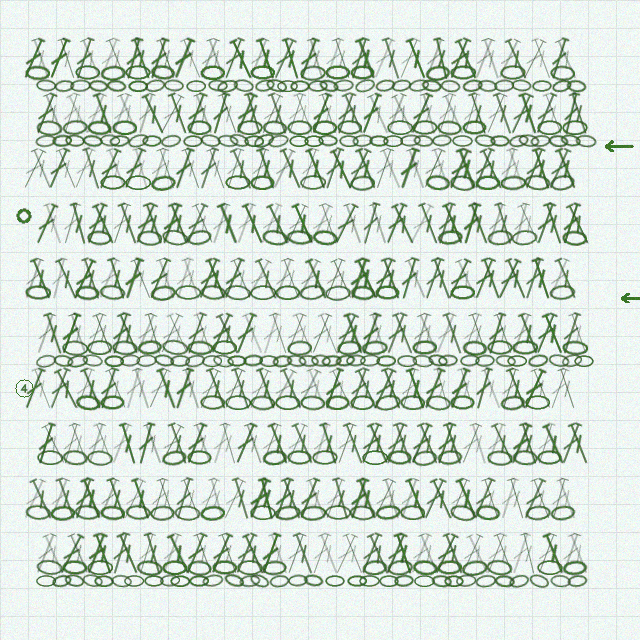chain: (449, 503, 477, 523), (161, 228, 189, 247), (261, 228, 289, 247), (161, 338, 189, 357), (374, 393, 402, 412), (549, 173, 576, 192), (186, 228, 213, 247), (449, 174, 476, 192), (161, 449, 188, 467), (274, 504, 301, 522), (136, 559, 163, 577), (461, 559, 488, 577), (486, 558, 513, 576), (425, 64, 451, 82), (150, 174, 176, 192), (150, 284, 176, 302), (425, 394, 451, 412), (500, 394, 526, 412), (412, 449, 438, 467), (550, 504, 576, 522), (524, 174, 551, 191), (286, 229, 313, 246), (511, 229, 538, 246), (99, 284, 126, 301), (224, 284, 251, 301), (299, 284, 326, 301), (549, 284, 576, 301), (74, 504, 101, 521), (36, 559, 63, 576), (252, 131, 276, 150), (150, 64, 176, 81), (62, 119, 88, 136), (425, 174, 451, 191), (312, 229, 338, 246), (437, 229, 463, 246), (487, 229, 513, 246), (200, 284, 226, 301), (137, 339, 163, 356), (75, 394, 101, 411), (62, 449, 88, 466), (262, 449, 288, 466), (437, 449, 463, 466), (512, 449, 538, 466), (25, 504, 51, 521), (125, 504, 151, 521), (375, 504, 401, 521), (475, 504, 501, 521), (362, 559, 388, 576), (387, 559, 413, 576), (412, 559, 438, 576), (36, 120, 63, 136), (361, 340, 388, 356), (174, 505, 201, 521), (349, 505, 376, 521), (100, 65, 126, 81), (300, 65, 326, 81), (262, 120, 288, 136), (500, 175, 526, 191), (325, 285, 351, 301), (350, 285, 376, 301), (62, 340, 88, 356), (112, 340, 138, 356), (187, 340, 213, 356), (462, 340, 488, 356), (562, 340, 588, 356), (87, 450, 113, 466), (487, 450, 513, 466), (300, 505, 326, 521), (525, 505, 551, 521), (562, 560, 588, 576), (248, 572, 271, 590), (25, 65, 50, 81), (550, 65, 575, 81), (87, 120, 112, 136), (437, 120, 462, 136), (350, 175, 375, 191), (87, 230, 112, 246), (137, 230, 162, 246), (562, 230, 587, 246), (75, 285, 100, 301), (287, 340, 312, 356), (337, 340, 362, 356), (250, 395, 275, 411), (300, 395, 325, 411), (50, 505, 75, 521), (100, 505, 125, 521), (150, 505, 175, 521), (200, 505, 225, 521), (187, 560, 212, 576), (262, 560, 287, 576), (528, 572, 550, 590), (265, 77, 288, 94), (127, 132, 150, 149), (125, 65, 151, 80), (450, 65, 476, 80), (500, 65, 526, 80), (237, 120, 263, 135), (387, 120, 413, 135), (412, 120, 438, 135), (562, 120, 588, 135), (100, 175, 126, 190), (125, 175, 151, 190), (225, 175, 251, 190), (300, 175, 326, 190), (25, 285, 51, 300), (175, 285, 201, 300), (250, 285, 276, 300), (487, 340, 513, 355), (512, 340, 538, 355), (225, 395, 251, 410), (37, 450, 63, 465), (312, 450, 338, 465), (362, 450, 388, 465), (250, 505, 276, 520), (325, 505, 351, 520), (87, 560, 113, 575), (237, 560, 263, 575), (537, 560, 563, 575), (75, 65, 100, 80), (200, 65, 225, 80), (250, 65, 275, 80), (325, 65, 350, 80), (350, 65, 375, 80), (112, 120, 137, 135), (187, 120, 212, 135), (287, 120, 312, 135), (312, 120, 337, 135), (337, 120, 362, 135), (462, 120, 487, 135), (537, 120, 562, 135), (250, 175, 275, 190), (475, 175, 500, 190), (275, 285, 300, 300), (375, 285, 400, 300), (450, 285, 475, 300), (87, 340, 112, 355), (212, 340, 237, 355), (412, 340, 437, 355), (100, 395, 125, 410), (200, 395, 225, 410), (275, 395, 300, 410), (325, 395, 350, 410), (350, 395, 375, 410), (400, 395, 425, 410), (450, 395, 475, 410), (525, 395, 550, 410), (187, 450, 212, 465), (287, 450, 312, 465), (387, 450, 412, 465), (537, 450, 562, 465), (400, 505, 425, 520), (62, 560, 87, 575), (162, 560, 187, 575), (212, 560, 237, 575), (437, 560, 462, 575), (354, 77, 376, 94), (228, 132, 250, 149), (223, 572, 245, 589), (216, 78, 239, 94), (267, 133, 290, 149), (66, 353, 89, 369), (212, 353, 235, 369), (318, 78, 340, 94), (551, 78, 573, 94), (160, 133, 182, 149), (508, 133, 530, 149), (35, 353, 57, 369), (184, 353, 206, 369), (51, 573, 73, 589), (508, 573, 530, 589), (144, 78, 166, 93), (254, 78, 276, 93), (408, 78, 430, 93), (474, 133, 496, 148), (518, 133, 540, 148), (153, 353, 175, 368), (427, 353, 449, 368), (527, 353, 549, 368), (548, 353, 570, 368), (561, 353, 583, 368), (202, 573, 224, 588), (233, 78, 254, 93), (375, 78, 396, 93), (391, 78, 412, 93), (421, 78, 442, 93), (462, 78, 483, 93), (200, 133, 221, 148), (560, 133, 581, 148), (82, 353, 103, 368), (335, 353, 356, 368), (64, 573, 85, 588), (82, 573, 103, 588), (303, 573, 324, 588), (35, 134, 57, 148), (217, 134, 239, 148), (575, 134, 597, 148), (412, 354, 434, 368), (239, 574, 261, 588), (475, 574, 497, 588), (54, 79, 75, 93), (88, 79, 109, 93), (106, 79, 127, 93), (440, 79, 461, 93), (477, 79, 498, 93), (566, 79, 587, 93), (82, 134, 103, 148), (109, 134, 130, 148), (413, 134, 434, 148), (530, 134, 551, 148), (548, 134, 569, 148), (53, 354, 74, 368), (272, 354, 293, 368), (286, 354, 307, 368), (298, 354, 319, 368), (321, 354, 342, 368), (495, 354, 516, 368), (111, 574, 132, 588), (269, 574, 290, 588), (431, 574, 452, 588), (494, 574, 515, 588), (550, 574, 571, 588), (567, 574, 588, 588), (70, 79, 91, 92), (333, 79, 354, 92), (511, 79, 532, 92), (352, 134, 373, 147), (400, 134, 421, 147), (136, 354, 157, 367), (36, 79, 56, 92), (164, 79, 184, 92), (208, 79, 228, 92), (494, 79, 514, 92), (52, 134, 72, 147), (65, 134, 85, 147), (100, 134, 120, 147), (318, 134, 338, 147), (432, 134, 452, 147), (120, 354, 140, 367), (243, 354, 263, 367), (311, 354, 331, 367), (346, 354, 366, 367), (360, 354, 380, 367), (438, 354, 458, 367), (460, 354, 480, 367), (475, 354, 495, 367), (160, 574, 180, 587), (288, 574, 308, 587), (394, 574, 414, 587), (456, 574, 476, 587), (277, 80, 298, 92), (452, 135, 473, 147), (359, 575, 380, 587), (414, 575, 435, 587), (128, 80, 148, 92), (186, 80, 206, 92), (290, 80, 310, 92), (308, 80, 328, 92), (532, 80, 552, 92), (142, 135, 162, 147), (183, 135, 203, 147), (244, 135, 264, 147), (289, 135, 309, 147), (304, 135, 324, 147), (339, 135, 359, 147), (369, 135, 389, 147), (383, 135, 403, 147), (490, 135, 510, 147), (104, 355, 124, 367), (170, 355, 190, 367), (202, 355, 222, 367), (227, 355, 247, 367), (259, 355, 279, 367), (376, 355, 396, 367), (397, 355, 417, 367), (507, 355, 527, 367), (574, 355, 594, 367), (36, 575, 56, 587), (94, 575, 114, 587), (124, 575, 144, 587), (144, 575, 164, 587), (170, 575, 190, 587), (189, 575, 209, 587), (325, 575, 345, 587), (347, 575, 367, 587), (379, 575, 399, 587), (444, 575, 464, 587)
double: (242, 257, 275, 301), (267, 367, 300, 411), (155, 92, 187, 136), (405, 202, 437, 246), (51, 367, 83, 411), (38, 422, 70, 466), (155, 422, 187, 466), (55, 532, 87, 576), (418, 146, 449, 191), (130, 201, 161, 246), (351, 256, 382, 301), (155, 311, 186, 356), (163, 311, 194, 356), (143, 366, 174, 411), (488, 421, 519, 466), (493, 37, 524, 81), (518, 37, 549, 81), (63, 92, 94, 136), (388, 92, 419, 136), (18, 147, 49, 191), (268, 147, 299, 191), (343, 147, 374, 191), (263, 202, 294, 246), (305, 202, 336, 246), (330, 202, 361, 246), (388, 202, 419, 246), (563, 202, 594, 246), (293, 257, 324, 301), (443, 257, 474, 301), (493, 257, 524, 301), (213, 312, 244, 356), (293, 367, 324, 411), (326, 367, 357, 411), (118, 477, 149, 521), (218, 477, 249, 521), (368, 477, 399, 521), (330, 532, 361, 576), (430, 532, 461, 576), (463, 532, 494, 576), (102, 36, 132, 81), (444, 36, 474, 81), (406, 91, 436, 136), (27, 146, 57, 191), (52, 146, 82, 191), (69, 146, 99, 191), (119, 146, 149, 191), (127, 256, 157, 301), (144, 256, 174, 301), (227, 256, 257, 301), (469, 256, 499, 301), (206, 311, 236, 356), (314, 311, 344, 356), (77, 366, 107, 411), (277, 366, 307, 411), (281, 421, 311, 466), (244, 476, 274, 521), (452, 476, 482, 521), (64, 531, 94, 576), (206, 531, 236, 576), (539, 531, 569, 576), (227, 37, 257, 81), (269, 37, 299, 81), (452, 37, 482, 81), (502, 37, 532, 81), (552, 37, 582, 81), (139, 92, 169, 136), (256, 92, 286, 136), (364, 92, 394, 136), (439, 92, 469, 136), (506, 92, 536, 136), (94, 147, 124, 191), (227, 147, 257, 191), (327, 147, 357, 191), (444, 147, 474, 191), (477, 147, 507, 191), (544, 147, 574, 191), (31, 202, 61, 246), (89, 202, 119, 246), (181, 202, 211, 246), (281, 202, 311, 246), (514, 202, 544, 246), (52, 257, 82, 301), (69, 257, 99, 301), (252, 257, 282, 301), (302, 257, 332, 301), (327, 257, 357, 301), (452, 257, 482, 301), (331, 312, 361, 356), (194, 367, 224, 411), (244, 367, 274, 411), (352, 367, 382, 411), (369, 367, 399, 411), (519, 367, 549, 411), (539, 422, 569, 466), (19, 477, 49, 521), (27, 477, 57, 521), (419, 477, 449, 521), (427, 477, 457, 521), (519, 477, 549, 521), (39, 532, 69, 576), (164, 532, 194, 576), (239, 532, 269, 576), (364, 532, 394, 576), (456, 532, 486, 576), (19, 36, 48, 81), (77, 36, 106, 81), (169, 36, 198, 81), (177, 36, 206, 81), (219, 36, 248, 81), (244, 36, 273, 81), (352, 36, 381, 81), (369, 36, 398, 81), (394, 36, 423, 81), (31, 91, 60, 136), (81, 91, 110, 136), (114, 91, 143, 136), (231, 91, 260, 136), (339, 91, 368, 136), (481, 91, 510, 136), (531, 91, 560, 136), (539, 91, 568, 136), (44, 146, 73, 191), (277, 146, 306, 191), (302, 146, 331, 191), (352, 146, 381, 191), (377, 146, 406, 191), (469, 146, 498, 191), (552, 146, 581, 191), (189, 201, 218, 246), (214, 201, 243, 246), (239, 201, 268, 246), (256, 201, 285, 246), (289, 201, 318, 246), (381, 201, 410, 246), (439, 201, 468, 246), (27, 256, 56, 301), (94, 256, 123, 301), (194, 256, 223, 301), (202, 256, 231, 301), (219, 256, 248, 301), (277, 256, 306, 301), (369, 256, 398, 301), (402, 256, 431, 301), (502, 256, 531, 301), (544, 256, 573, 301), (552, 256, 581, 301), (89, 311, 118, 356), (114, 311, 143, 356), (131, 311, 160, 356), (231, 311, 260, 356), (239, 311, 268, 356), (281, 311, 310, 356), (289, 311, 318, 356), (306, 311, 335, 356), (389, 311, 418, 356), (414, 311, 443, 356), (431, 311, 460, 356), (531, 311, 560, 356), (539, 311, 568, 356), (102, 366, 131, 411), (219, 366, 248, 411), (419, 366, 448, 411), (527, 366, 556, 411), (231, 421, 260, 466), (256, 421, 285, 466), (289, 421, 318, 466), (356, 421, 385, 466), (364, 421, 393, 466), (381, 421, 410, 466), (406, 421, 435, 466), (414, 421, 443, 466), (456, 421, 485, 466), (506, 421, 535, 466), (77, 476, 106, 521), (94, 476, 123, 521), (177, 476, 206, 521), (194, 476, 223, 521), (402, 476, 431, 521), (444, 476, 473, 521), (469, 476, 498, 521), (527, 476, 556, 521), (31, 531, 60, 576), (114, 531, 143, 576), (181, 531, 210, 576), (231, 531, 260, 576), (339, 531, 368, 576), (356, 531, 385, 576), (381, 531, 410, 576), (406, 531, 435, 576), (481, 531, 510, 576), (45, 36, 73, 81), (95, 36, 123, 81), (153, 36, 181, 81), (195, 36, 223, 81), (403, 36, 431, 81), (420, 36, 448, 81), (470, 36, 498, 81), (528, 36, 556, 81), (40, 91, 68, 136), (107, 91, 135, 136), (182, 91, 210, 136), (190, 91, 218, 136), (290, 91, 318, 136), (307, 91, 335, 136), (357, 91, 385, 136), (382, 91, 410, 136), (103, 146, 131, 191), (203, 146, 231, 191), (395, 146, 423, 191), (453, 146, 481, 191), (520, 146, 548, 191), (82, 201, 110, 246), (140, 201, 168, 246), (157, 201, 185, 246), (165, 201, 193, 246), (315, 201, 343, 246), (415, 201, 443, 246), (465, 201, 493, 246), (320, 256, 348, 301), (345, 256, 373, 301), (428, 256, 456, 301), (40, 311, 68, 356), (82, 311, 110, 356), (182, 311, 210, 356), (190, 311, 218, 356), (340, 311, 368, 356), (382, 311, 410, 356), (457, 311, 485, 356), (507, 311, 535, 356), (515, 311, 543, 356), (20, 366, 48, 411), (28, 366, 56, 411), (45, 366, 73, 411), (70, 366, 98, 411), (153, 366, 181, 411), (203, 366, 231, 411), (303, 366, 331, 411), (378, 366, 406, 411), (445, 366, 473, 411), (478, 366, 506, 411), (503, 366, 531, 411), (65, 421, 93, 466), (90, 421, 118, 466), (107, 421, 135, 466), (182, 421, 210, 466), (240, 421, 268, 466), (265, 421, 293, 466), (340, 421, 368, 466), (557, 421, 585, 466), (565, 421, 593, 466), (45, 476, 73, 521), (103, 476, 131, 521), (278, 476, 306, 521), (295, 476, 323, 521), (303, 476, 331, 521), (320, 476, 348, 521), (353, 476, 381, 521), (395, 476, 423, 521), (553, 476, 581, 521), (82, 531, 110, 576), (157, 531, 185, 576), (265, 531, 293, 576), (290, 531, 318, 576), (315, 531, 343, 576), (415, 531, 443, 576), (440, 531, 468, 576), (490, 531, 518, 576), (532, 531, 560, 576), (565, 531, 593, 576), (28, 36, 55, 81), (128, 36, 155, 81), (145, 36, 172, 81), (203, 36, 230, 81), (253, 36, 280, 81), (295, 36, 322, 81), (320, 36, 347, 81), (478, 36, 505, 81), (90, 91, 117, 136), (165, 91, 192, 136), (215, 91, 242, 136), (265, 91, 292, 136), (282, 91, 309, 136), (315, 91, 342, 136), (332, 91, 359, 136), (432, 91, 459, 136), (465, 91, 492, 136), (490, 91, 517, 136), (515, 91, 542, 136), (153, 146, 180, 191), (170, 146, 197, 191), (178, 146, 205, 191), (195, 146, 222, 191), (253, 146, 280, 191), (295, 146, 322, 191), (320, 146, 347, 191), (370, 146, 397, 191), (403, 146, 430, 191), (428, 146, 455, 191), (503, 146, 530, 191), (40, 201, 67, 246), (107, 201, 134, 246), (115, 201, 142, 246), (207, 201, 234, 246), (232, 201, 259, 246), (340, 201, 367, 246), (532, 201, 559, 246), (540, 201, 567, 246), (20, 256, 47, 301), (78, 256, 105, 301), (120, 256, 147, 301), (153, 256, 180, 301), (178, 256, 205, 301), (270, 256, 297, 301), (378, 256, 405, 301), (420, 256, 447, 301), (478, 256, 505, 301), (520, 256, 547, 301), (32, 311, 59, 356), (57, 311, 84, 356), (65, 311, 92, 356), (107, 311, 134, 356), (357, 311, 384, 356), (440, 311, 467, 356), (465, 311, 492, 356), (490, 311, 517, 356), (565, 311, 592, 356), (95, 366, 122, 411), (170, 366, 197, 411), (228, 366, 255, 411), (253, 366, 280, 411), (320, 366, 347, 411), (345, 366, 372, 411), (403, 366, 430, 411), (545, 366, 572, 411), (140, 421, 167, 466), (165, 421, 192, 466), (190, 421, 217, 466), (332, 421, 359, 466), (390, 421, 417, 466), (432, 421, 459, 466), (440, 421, 467, 466), (482, 421, 509, 466), (532, 421, 559, 466), (53, 476, 80, 521), (70, 476, 97, 521), (128, 476, 155, 521), (153, 476, 180, 521), (270, 476, 297, 521), (345, 476, 372, 521), (478, 476, 505, 521), (90, 531, 117, 576), (190, 531, 217, 576), (215, 531, 242, 576), (257, 531, 284, 576), (282, 531, 309, 576), (307, 531, 334, 576), (507, 531, 534, 576), (557, 531, 584, 576), (54, 36, 80, 81), (71, 36, 97, 81), (329, 36, 355, 81), (346, 36, 372, 81), (379, 36, 405, 81), (546, 36, 572, 81), (133, 91, 159, 136), (566, 91, 592, 136), (79, 146, 105, 191), (146, 146, 172, 191), (221, 146, 247, 191), (246, 146, 272, 191), (529, 146, 555, 191), (58, 201, 84, 246), (366, 201, 392, 246), (433, 201, 459, 246), (458, 201, 484, 246), (483, 201, 509, 246), (491, 201, 517, 246), (558, 201, 584, 246), (104, 256, 130, 301), (171, 256, 197, 301), (396, 256, 422, 301), (529, 256, 555, 301), (258, 311, 284, 356), (266, 311, 292, 356), (408, 311, 434, 356), (483, 311, 509, 356), (558, 311, 584, 356), (129, 366, 155, 411), (179, 366, 205, 411), (396, 366, 422, 411), (496, 366, 522, 411), (554, 366, 580, 411), (33, 421, 59, 466), (83, 421, 109, 466), (208, 421, 234, 466), (308, 421, 334, 466), (316, 421, 342, 466), (466, 421, 492, 466), (516, 421, 542, 466), (379, 476, 405, 521), (496, 476, 522, 521), (546, 476, 572, 521), (133, 531, 159, 576), (391, 531, 417, 576), (121, 36, 146, 81), (279, 36, 304, 81), (304, 36, 329, 81), (58, 91, 83, 136), (208, 91, 233, 136), (241, 91, 266, 136), (458, 91, 483, 136), (129, 146, 154, 191), (496, 146, 521, 191), (358, 201, 383, 246), (141, 311, 166, 356), (366, 311, 391, 356), (121, 366, 146, 411), (454, 366, 479, 411), (471, 366, 496, 411), (58, 421, 83, 466), (116, 421, 141, 466), (216, 421, 241, 466), (146, 476, 171, 521), (171, 476, 196, 521), (229, 476, 254, 521), (329, 476, 354, 521), (504, 476, 529, 521), (108, 531, 133, 576), (141, 531, 166, 576), (417, 91, 441, 136), (559, 91, 583, 136), (67, 201, 91, 246), (509, 201, 533, 246), (47, 256, 71, 301), (430, 366, 454, 411), (134, 421, 158, 466), (205, 476, 229, 521), (255, 476, 279, 521), (430, 36, 453, 81), (517, 531, 540, 576)
noise: (13, 377, 35, 399), (602, 140, 634, 152), (14, 206, 33, 225), (618, 293, 640, 303)
